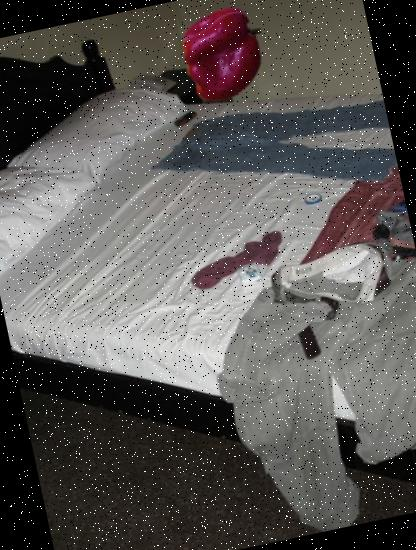Pepper: (169, 0, 279, 109)
